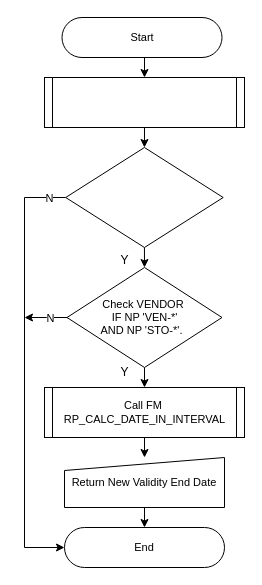
This 262x585 diagram has some shape labels left out. Here are the shapes that lost their labels. From the top down, the centre of each, then its label:
At (144,102): "User Exits ZBA_COND_DATE_TO_DEFAULT".
At (144,197): "Check SY-TCODE IF EQ 'ME11' OR 'ME12' OR 'ME13'.".
